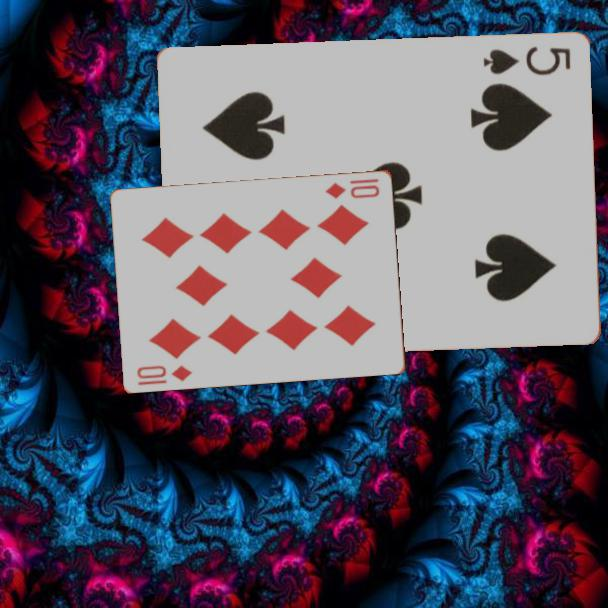d10: (322, 175, 383, 202), (134, 361, 195, 388)
s05: (479, 43, 573, 79)
